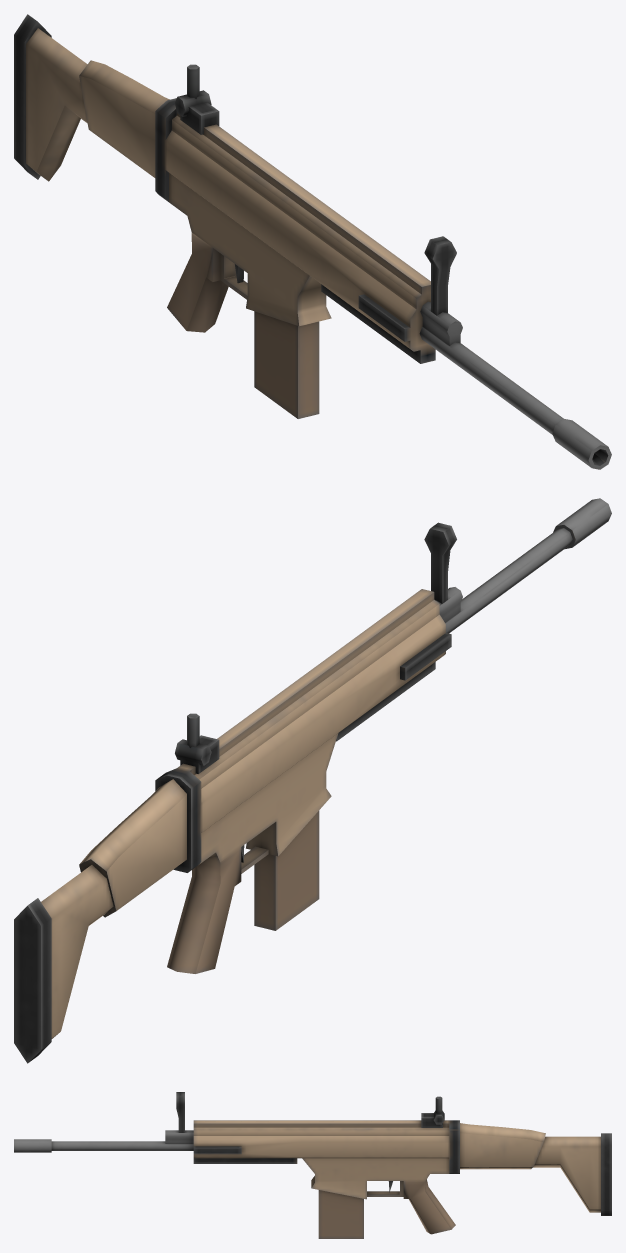
File: Scar.fbx
3 renders of one model, top to bottom at view 1: azimuth 30°, elevation 25°; view 2: azimuth 150°, elevation 25°; view 3: azimuth 270°, elevation 25°, orthographic. The views are drawn at different scales.
Visible parts, largest first — view 1: Scar; view 2: Scar; view 3: Scar.
Boxes of the visible parts, x1,y1,x2,y2 form: Scar: (14,14,611,469); Scar: (14,498,611,1063); Scar: (14,1092,611,1238).
Size of the model in its own units: 4.63 by 25.78 by 98.19.
